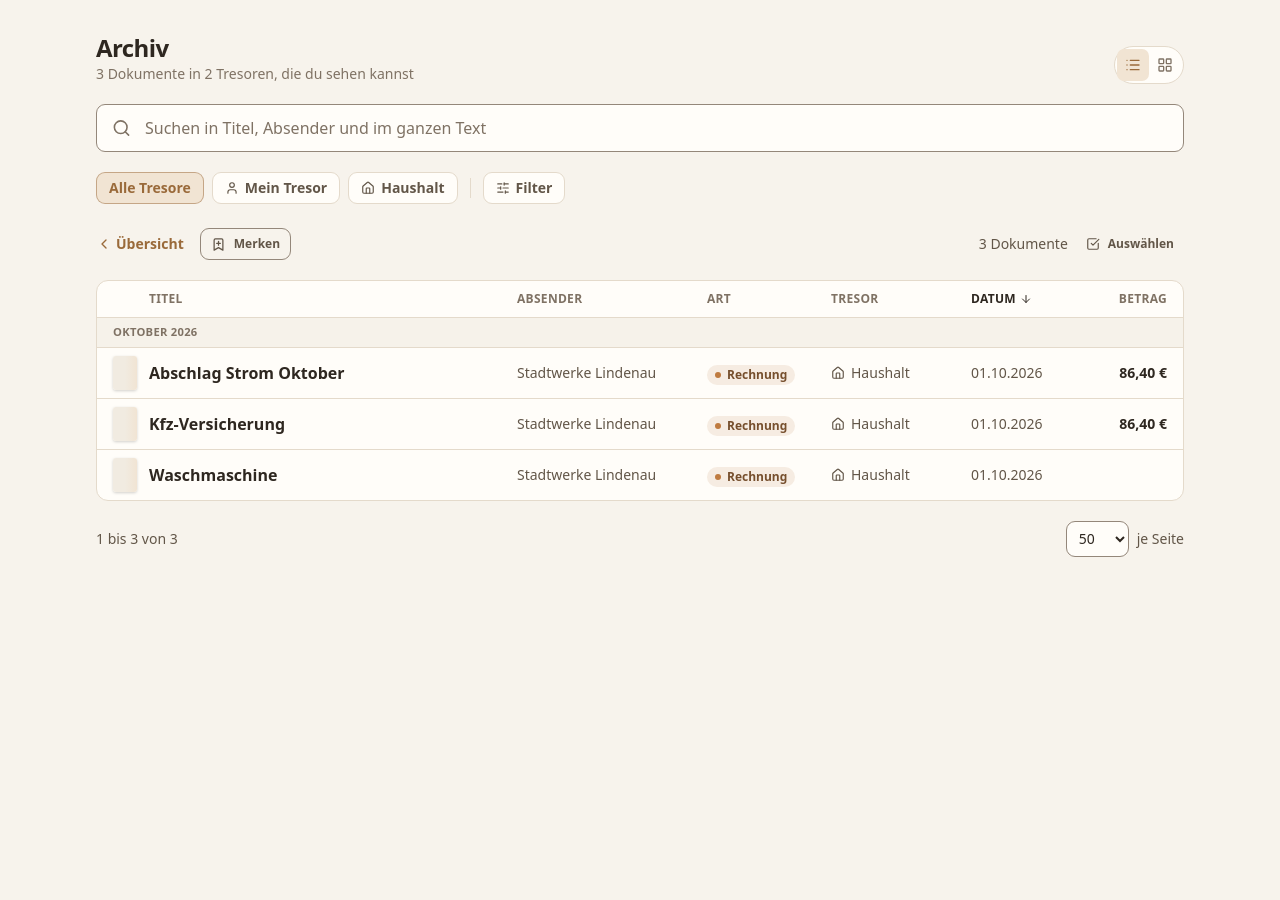
Auswählen › asks before the trash, names the 30 days and the documents still to be kept, and sends nothing without a yes
This screenshot has width=1280, height=900.
Click the button "Auswählen" at x=1130, y=244, box [1076,228,1184,260]
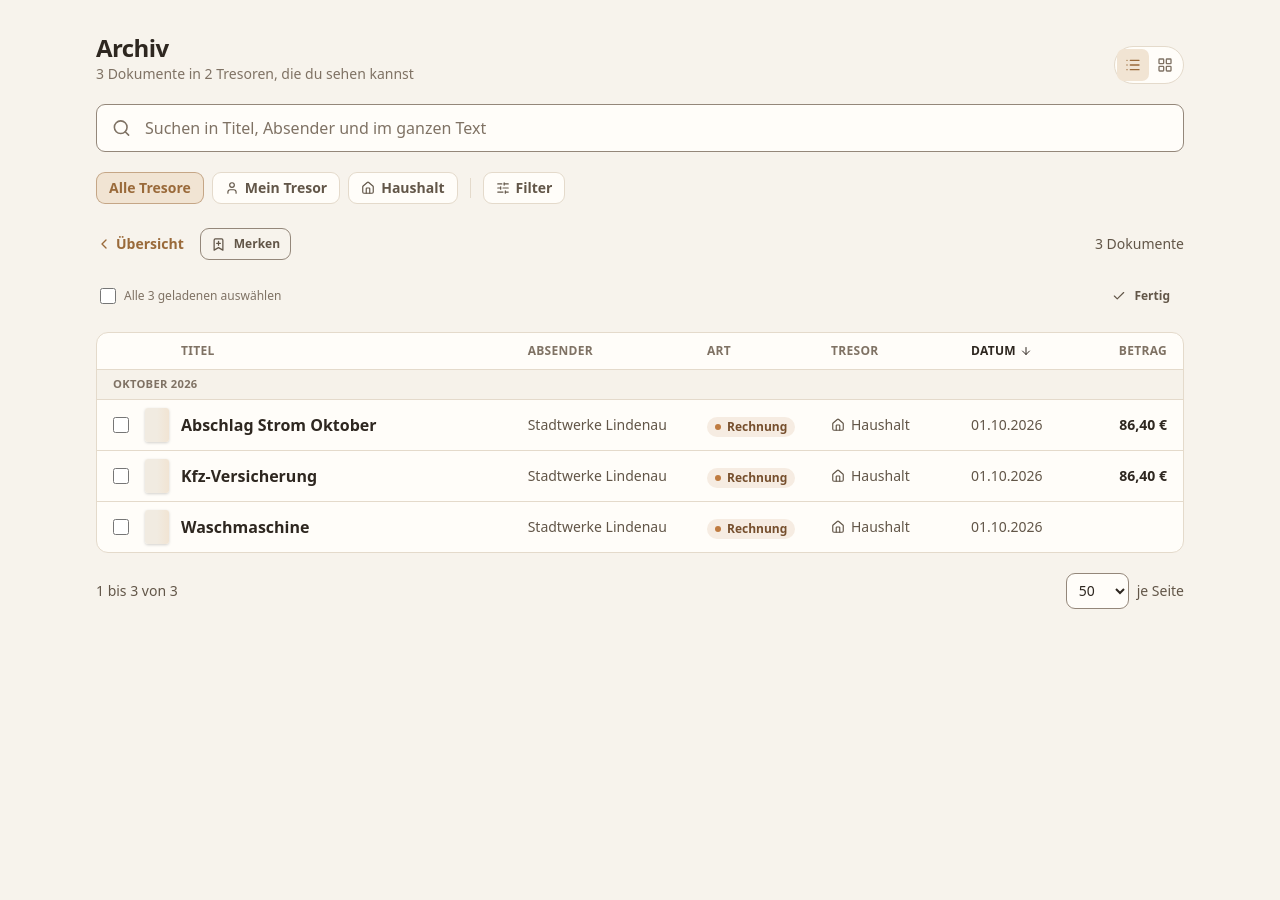
Click the checkbox named "Alle 3 geladenen auswählen" at x=108, y=296, box [100,288,116,304]
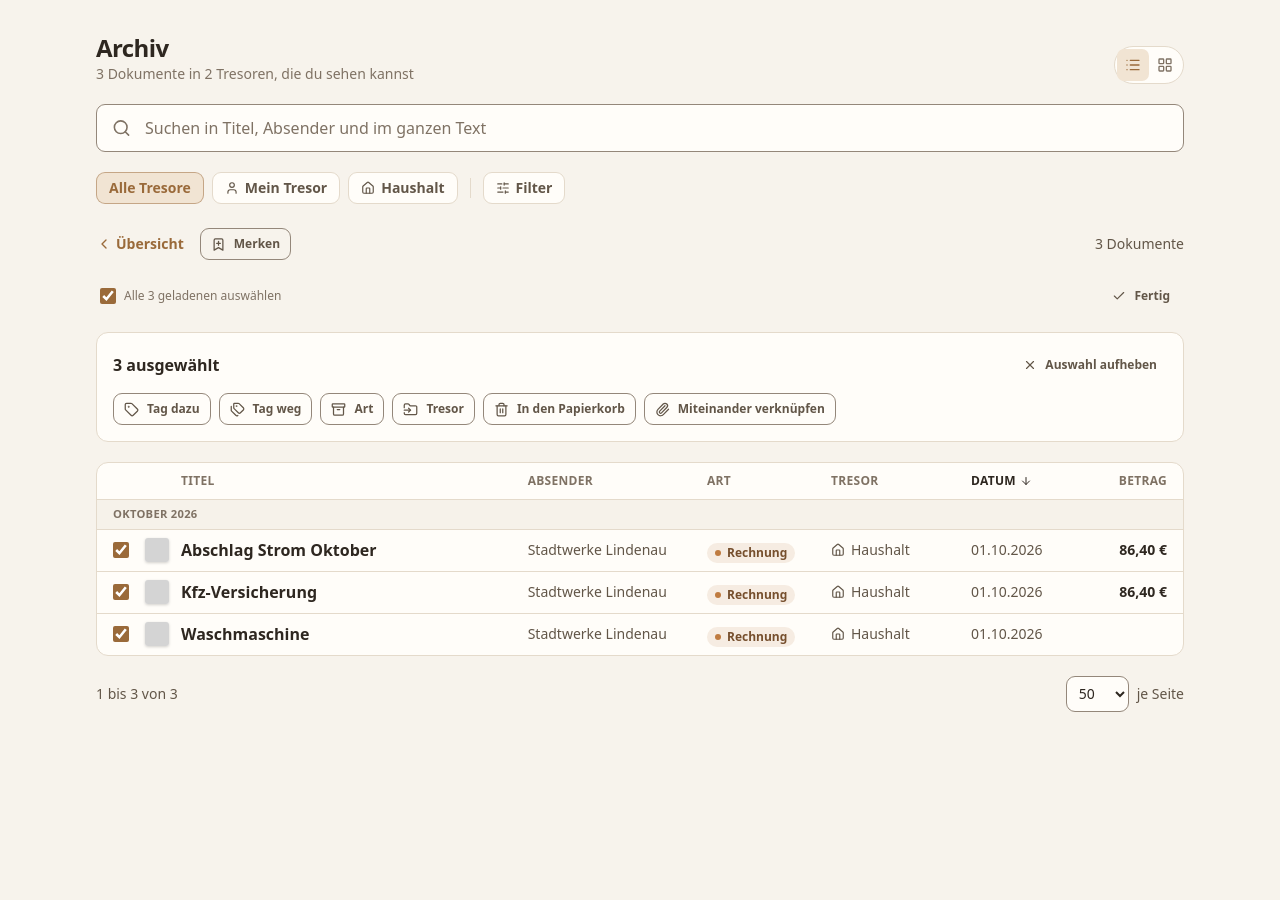
Expected: the button "In den Papierkorb" is shown
Click the button "In den Papierkorb" at x=559, y=409, box [483,393,636,425]
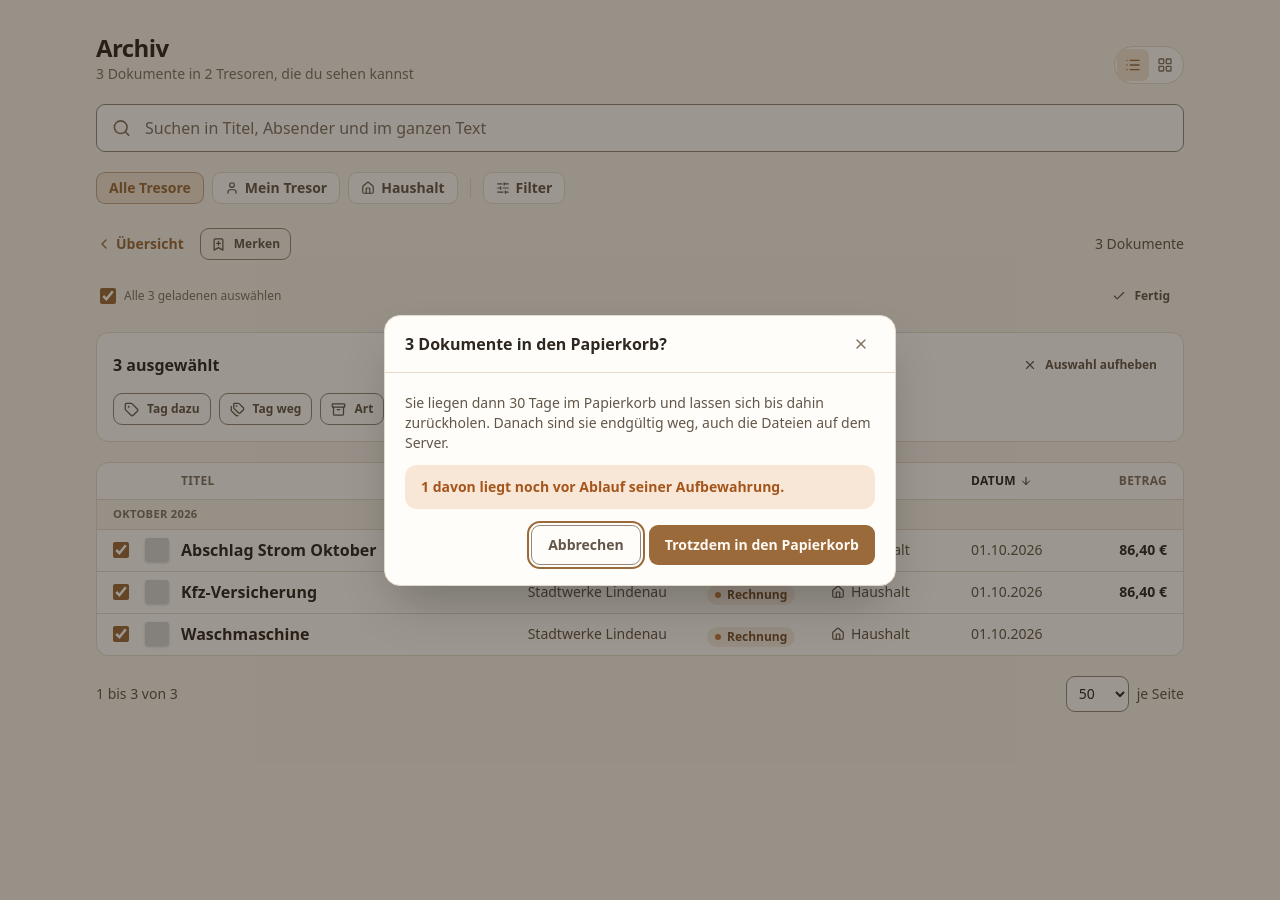
Expected: the text "3 Dokumente in den Papierkorb?" is shown, [405,332,667,356]
Expected: the text "30 Tage im Papierkorb" is shown, [405,392,871,452]
Expected: the text with test id "bulk-keep-running" reads "1 davon liegt noch vor Ablauf seiner Aufbewahrung.", [421,476,784,496]
Click the button "Abbrechen" at x=586, y=544, box [531,524,641,564]
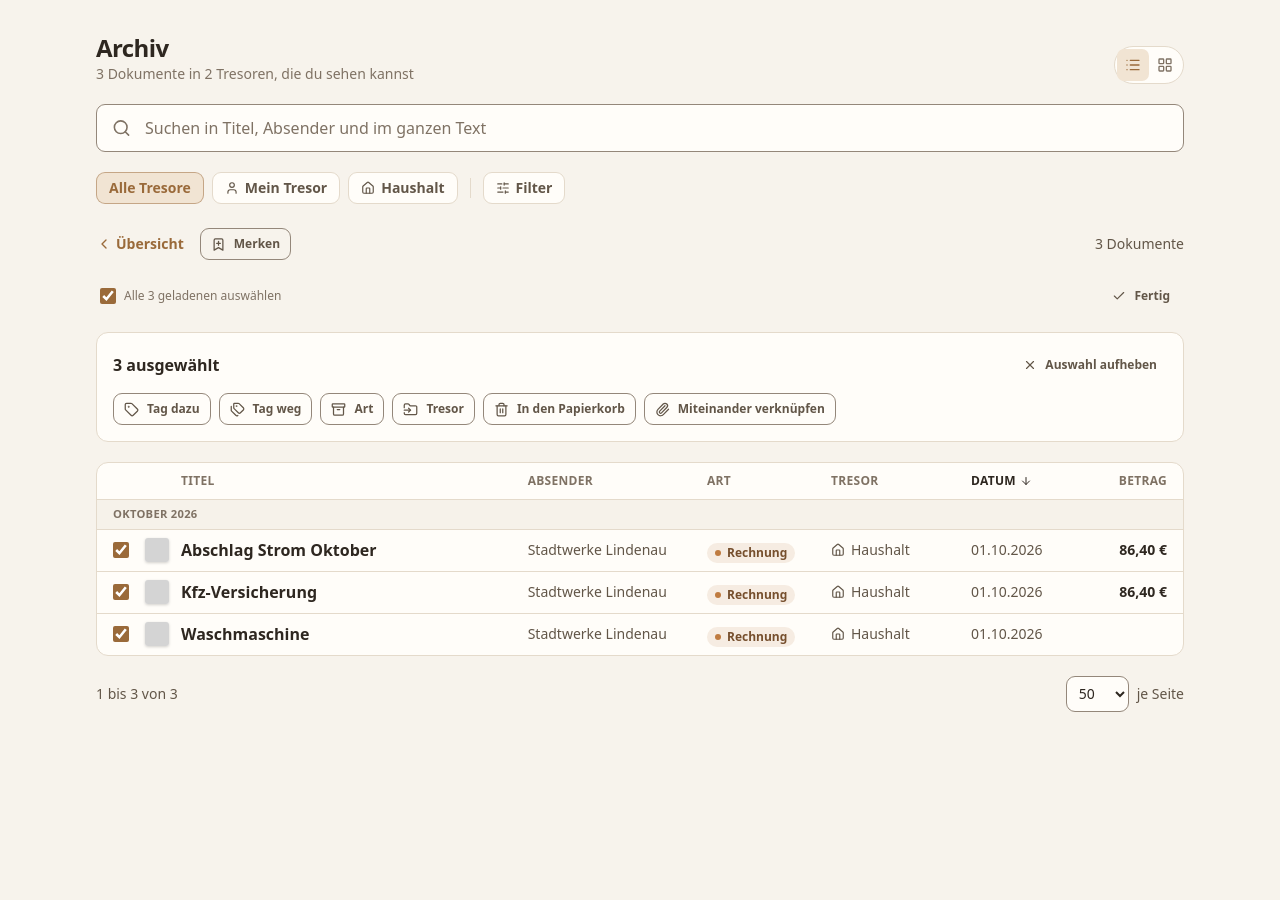
Expected: the button "In den Papierkorb" is shown
Click the button "In den Papierkorb" at x=559, y=409, box [483,393,636,425]
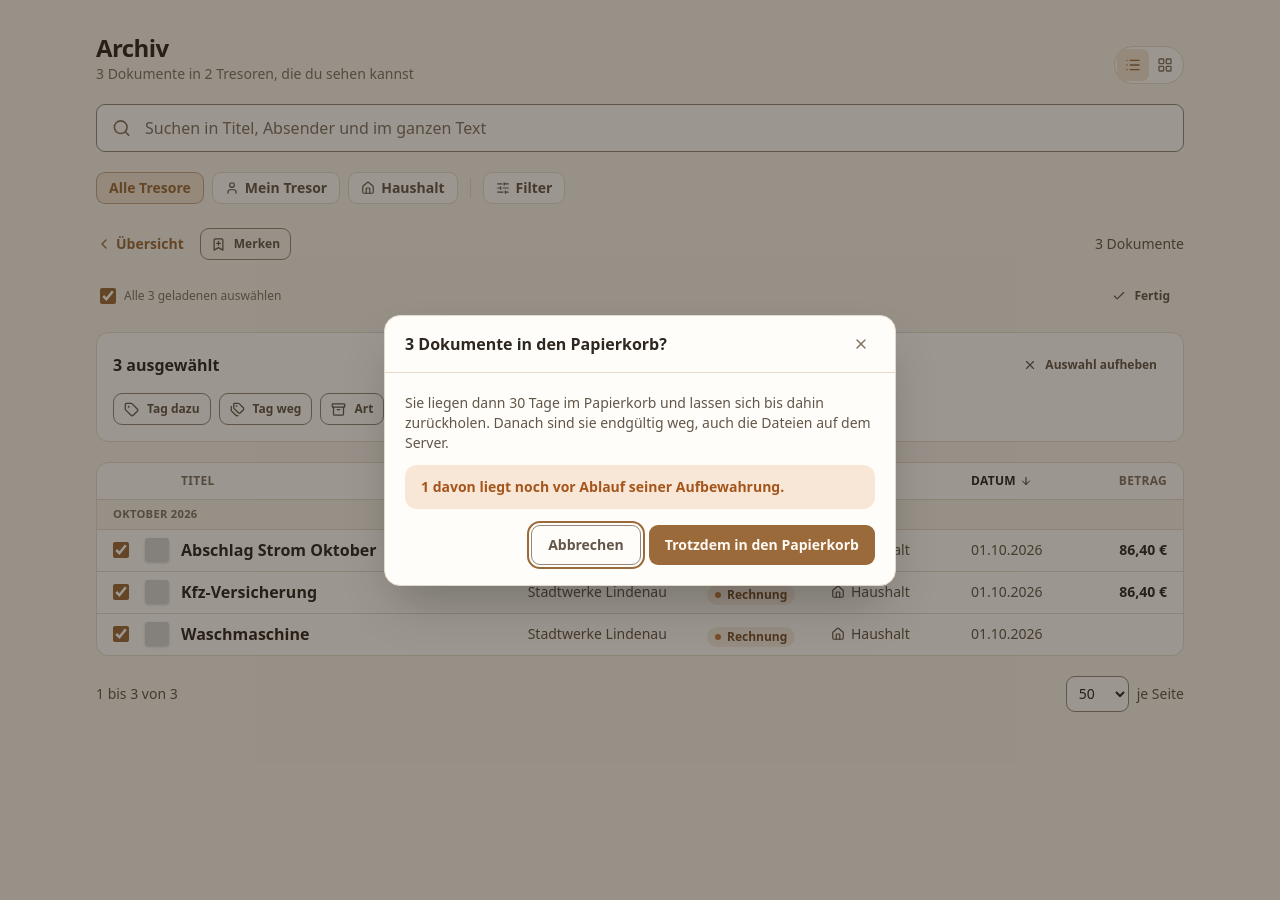
Expected: the button "Trotzdem in den Papierkorb" is shown
Click the button "Trotzdem in den Papierkorb" at x=762, y=544, box [649,524,875,564]
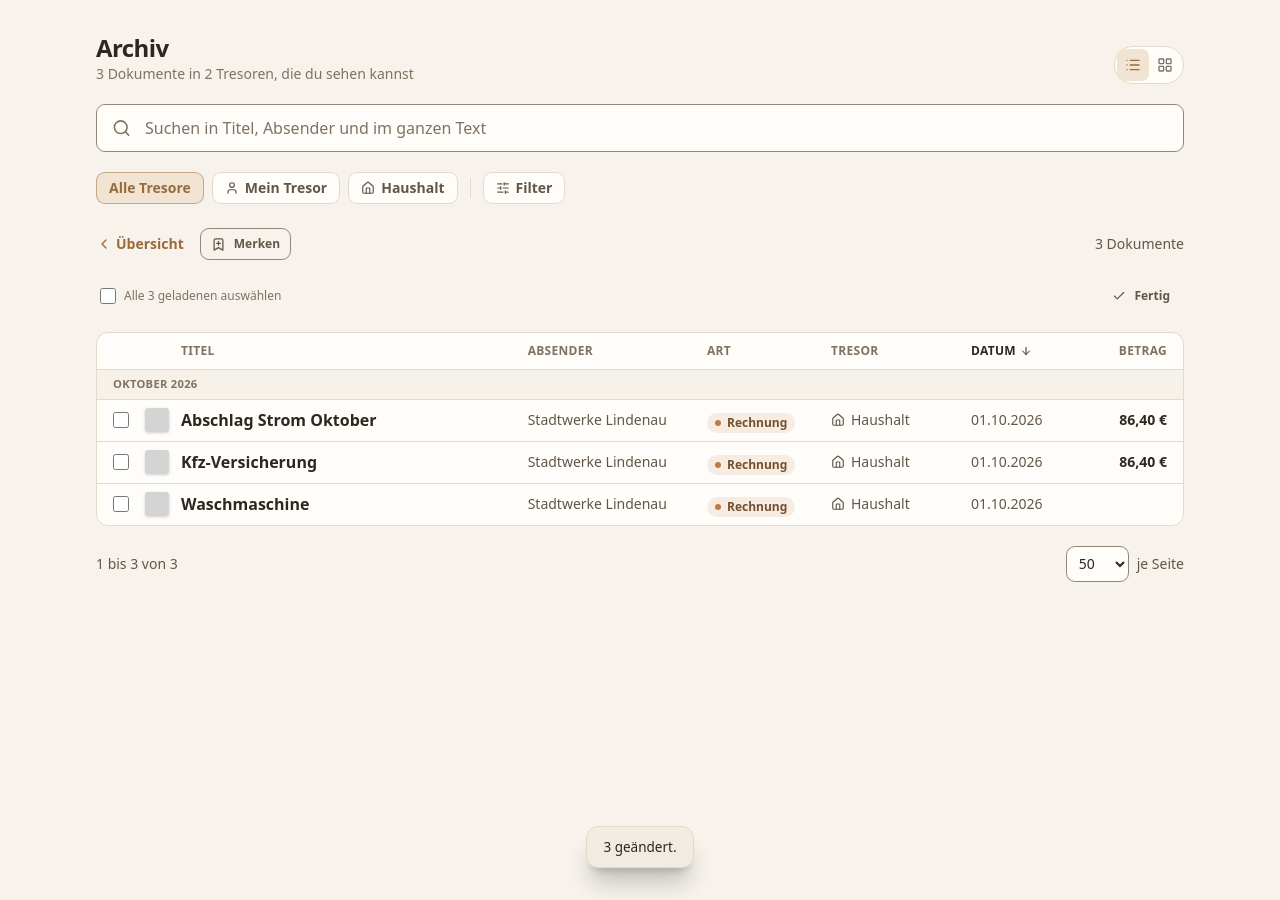
Expected: the text "3 geändert." is shown, [586,826,694,868]
